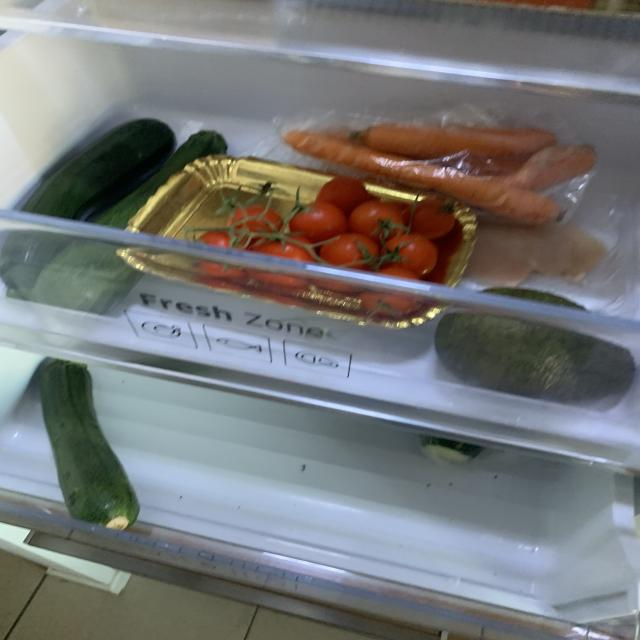avocado: (438, 286, 629, 397)
carrots: (284, 116, 594, 224)
cherry_tomato: (188, 179, 458, 319)
courgettes: (2, 122, 216, 313), (34, 358, 144, 528)
